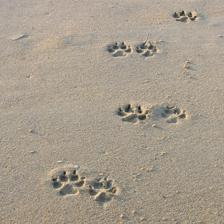dog: (50, 170, 85, 200), (86, 177, 118, 206), (113, 104, 148, 129), (134, 37, 157, 59), (105, 41, 132, 58)
